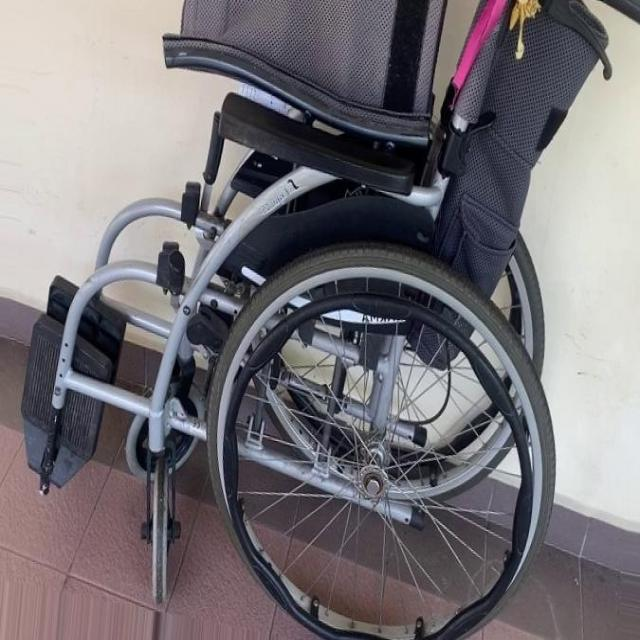wheelchair: (10, 0, 601, 640)
